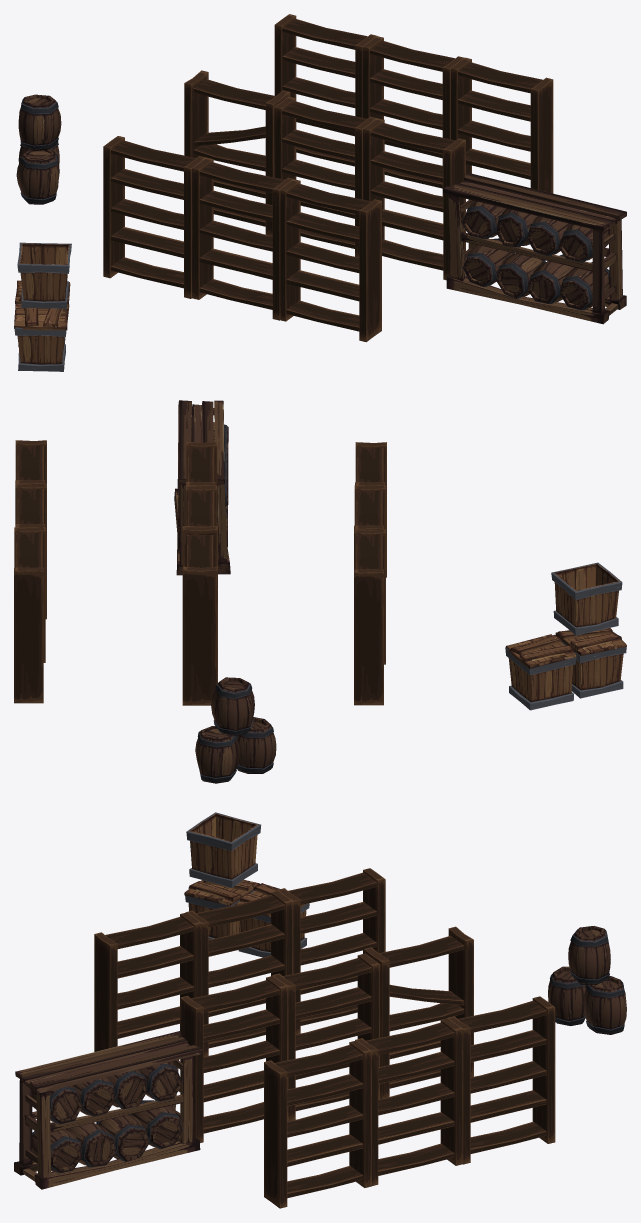
File: CocinaBBB.fbx
3 renders of one model, top to bottom at view 1: azimuth 30°, elevation 25°; view 2: azimuth 150°, elevation 25°; view 3: azimuth 270°, elevation 25°, orthographic. The views are drawn at different scales.
Parts seen in each view (by area): view 1: SM_PROP_barrel_shelf_dungeon_01, SM_PROP_bookshelf_dungeon_03.003, SM_PROP_bookshelf_dungeon_03.004, SM_PROP_bookshelf_dungeon_03.009, SM_PROP_bookshelf_dungeon_03.001, SM_PROP_bookshelf_dungeon_03.008, SM_PROP_bookshelf_dungeon_04, SM_PROP_bookshelf_dungeon_03.002, SM_PROP_bookshelf_dungeon_03.006, SM_PROP_bookshelf_dungeon_03.005, SM_PROP_barrel_dungeon_04, SM_PROP_box_dungeon_03.002 (+1 smaller); view 2: SM_PROP_bookshelf_dungeon_04, SM_PROP_barrel_dungeon_04, SM_PROP_bookshelf_dungeon_03.009, SM_PROP_bookshelf_dungeon_03.005, SM_PROP_barrel_shelf_dungeon_01, SM_PROP_box_dungeon_04.008, SM_PROP_box_dungeon_03.002, SM_PROP_box_dungeon_04.006, SM_PROP_bookshelf_dungeon_03.006, SM_PROP_bookshelf_dungeon_03.003, SM_PROP_bookshelf_dungeon_03.001, SM_PROP_bookshelf_dungeon_03.008 (+2 smaller); view 3: SM_PROP_barrel_shelf_dungeon_01, SM_PROP_bookshelf_dungeon_03.008, SM_PROP_bookshelf_dungeon_03.005, SM_PROP_bookshelf_dungeon_03.006, SM_PROP_bookshelf_dungeon_03.001, SM_PROP_bookshelf_dungeon_03.003, SM_PROP_bookshelf_dungeon_04, SM_PROP_bookshelf_dungeon_03.002, SM_PROP_bookshelf_dungeon_03.004, SM_PROP_bookshelf_dungeon_03.009, SM_PROP_barrel_dungeon_04, SM_PROP_box_dungeon_03.002 (+2 smaller).
Part boxes in pixels (<box>): SM_PROP_barrel_shelf_dungeon_01: <box>443,172,626,324</box>; SM_PROP_bookshelf_dungeon_03.003: <box>279,179,381,342</box>; SM_PROP_bookshelf_dungeon_03.004: <box>192,157,292,320</box>; SM_PROP_bookshelf_dungeon_03.009: <box>103,136,205,298</box>; SM_PROP_bookshelf_dungeon_03.001: <box>363,118,465,280</box>; SM_PROP_bookshelf_dungeon_03.008: <box>450,57,553,193</box>; SM_PROP_bookshelf_dungeon_04: <box>184,70,290,235</box>; SM_PROP_bookshelf_dungeon_03.002: <box>274,96,376,257</box>; SM_PROP_bookshelf_dungeon_03.006: <box>362,36,463,196</box>; SM_PROP_bookshelf_dungeon_03.005: <box>274,14,376,166</box>; SM_PROP_barrel_dungeon_04: <box>16,94,61,204</box>; SM_PROP_box_dungeon_03.002: <box>17,242,71,308</box>; SM_PROP_bookshelf_dungeon_04: <box>182,526,217,705</box>; SM_PROP_barrel_dungeon_04: <box>195,677,276,783</box>; SM_PROP_bookshelf_dungeon_03.009: <box>354,529,385,705</box>; SM_PROP_bookshelf_dungeon_03.005: <box>14,527,45,703</box>; SM_PROP_barrel_shelf_dungeon_01: <box>174,400,230,575</box>; SM_PROP_box_dungeon_04.008: <box>505,634,576,710</box>; SM_PROP_box_dungeon_03.002: <box>551,562,622,635</box>; SM_PROP_box_dungeon_04.006: <box>555,628,626,698</box>; SM_PROP_bookshelf_dungeon_03.006: <box>15,483,46,619</box>; SM_PROP_bookshelf_dungeon_03.003: <box>355,442,386,577</box>; SM_PROP_bookshelf_dungeon_03.001: <box>185,442,217,525</box>; SM_PROP_bookshelf_dungeon_03.008: <box>15,440,46,523</box>; SM_PROP_barrel_shelf_dungeon_01: <box>14,1031,202,1189</box>; SM_PROP_bookshelf_dungeon_03.008: <box>264,1040,371,1208</box>; SM_PROP_bookshelf_dungeon_03.005: <box>447,996,555,1164</box>; SM_PROP_bookshelf_dungeon_03.006: <box>355,1018,462,1185</box>; SM_PROP_bookshelf_dungeon_03.001: <box>180,976,288,1142</box>; SM_PROP_bookshelf_dungeon_03.003: <box>94,912,202,1051</box>; SM_PROP_bookshelf_dungeon_04: <box>364,926,473,1098</box>; SM_PROP_bookshelf_dungeon_03.002: <box>272,953,380,1120</box>; SM_PROP_bookshelf_dungeon_03.004: <box>185,890,293,1056</box>; SM_PROP_bookshelf_dungeon_03.009: <box>277,868,385,1034</box>; SM_PROP_barrel_dungeon_04: <box>548,926,626,1034</box>; SM_PROP_box_dungeon_03.002: <box>186,812,261,887</box>.
Size of the model in its own units: 11.41 by 2.59 by 10.23.
Materials: 12 (12 with a texture image).
